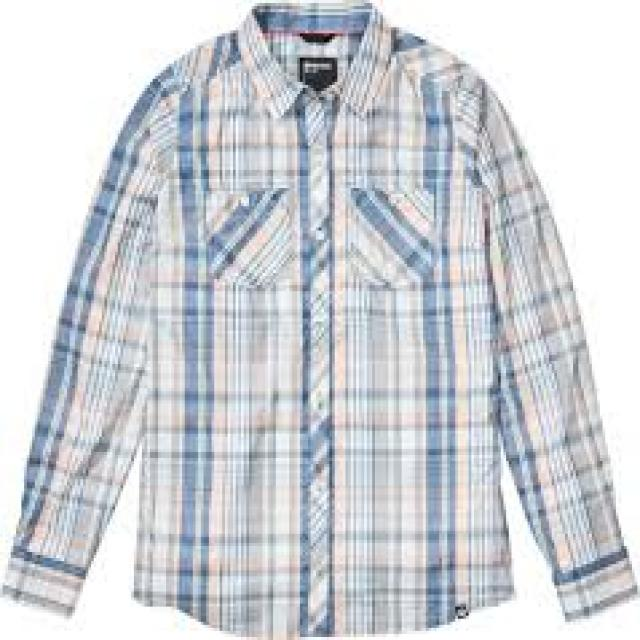plaid: (18, 9, 631, 640)
